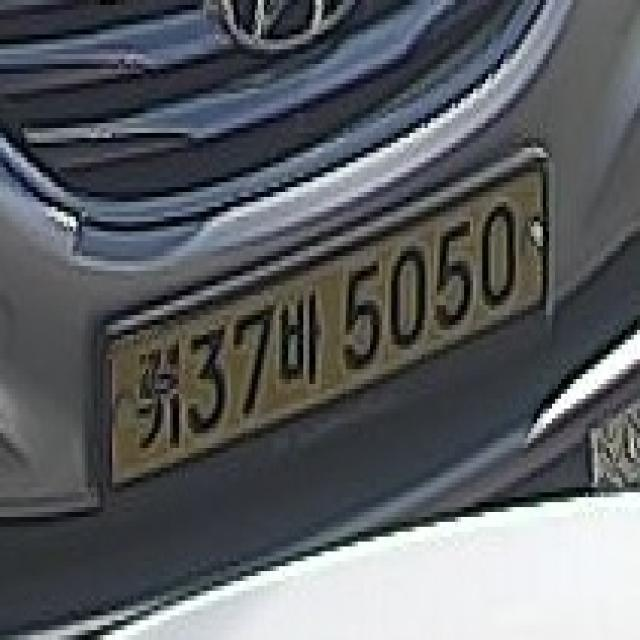plat: (95, 141, 556, 493)
